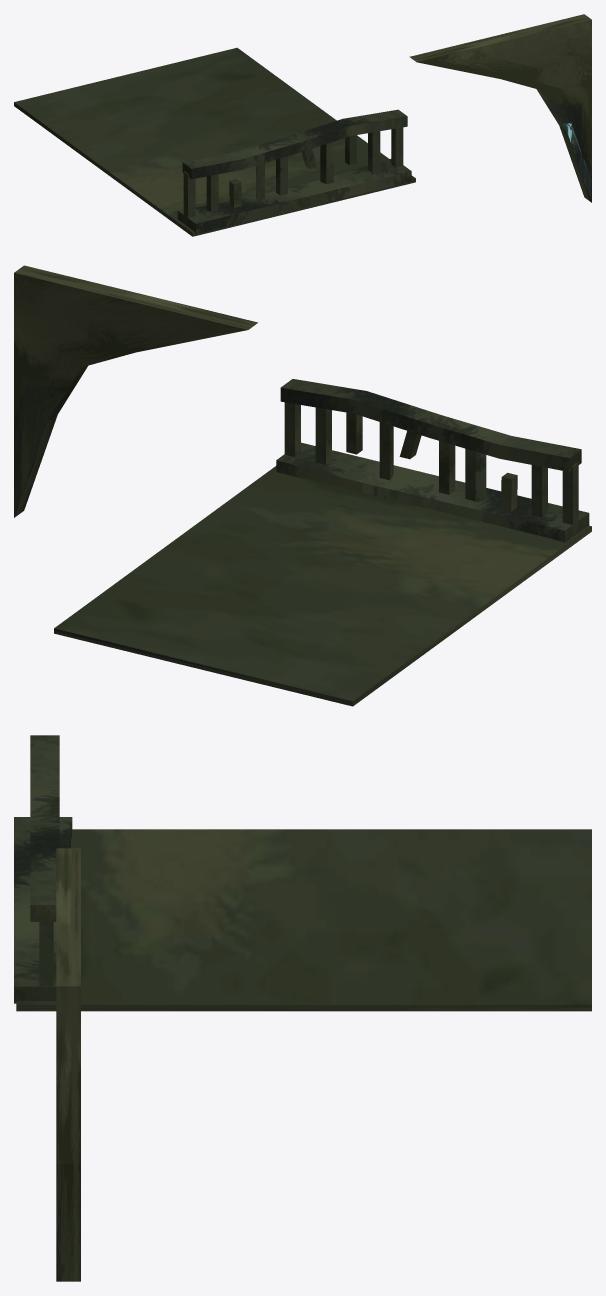
Rendered from Bridge.fbx.
The picture shows the model from 3 angles, top to bottom: view 1: azimuth 30°, elevation 25°; view 2: azimuth 150°, elevation 25°; view 3: azimuth 270°, elevation 25°; orthographic projection. The views are drawn at different scales.
Visible parts, largest first — view 1: Cube.001, Cube, Cube.002; view 2: Cube.001, Cube, Cube.002; view 3: Cube.001, Cube, Cube.002.
Part boxes in pixels (x1,y1,x2,y2): Cube.001: (14,47,415,236); Cube: (177,109,411,234); Cube.002: (409,14,591,202); Cube.001: (54,466,591,706); Cube: (276,379,589,542); Cube.002: (14,265,257,517); Cube.001: (16,829,591,1011); Cube: (14,735,72,1003); Cube.002: (56,848,80,1281).
Size of the model in its own units: 10712 by 4556 by 8078.
Materials: 1 (1 with a texture image).
